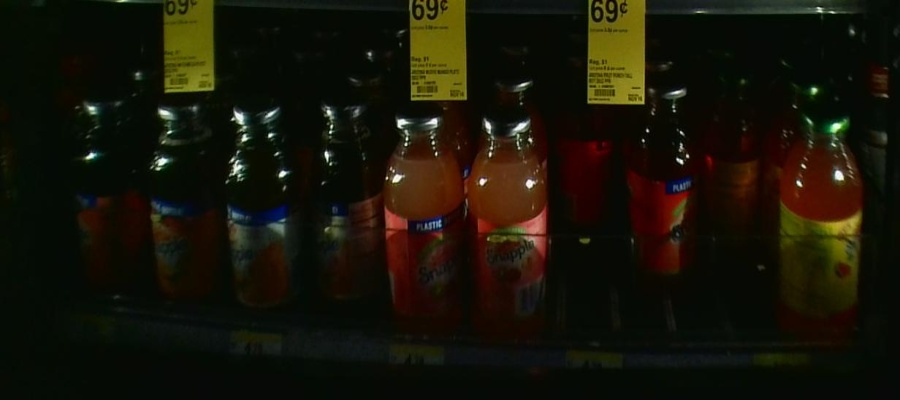bottle: (468, 98, 554, 333), (782, 102, 864, 344), (383, 97, 468, 324), (220, 88, 302, 321), (62, 73, 143, 302), (628, 78, 704, 290), (310, 89, 379, 320), (147, 86, 212, 309), (554, 57, 612, 235), (706, 71, 759, 259)
